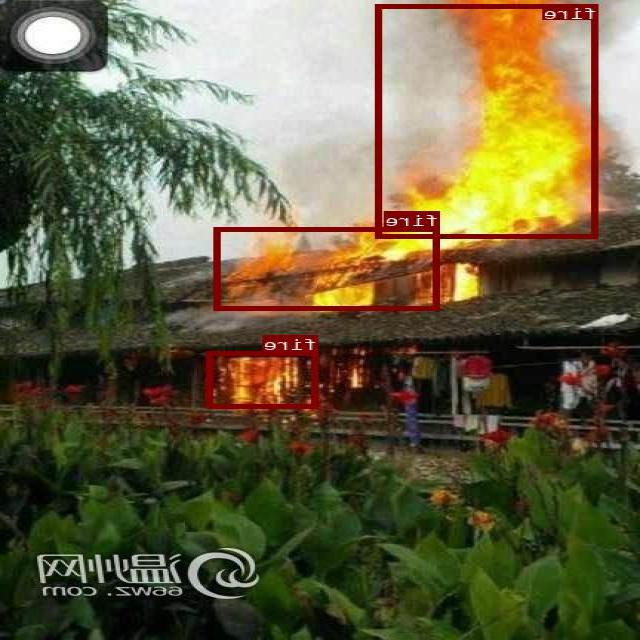fire: (376, 4, 600, 237), (215, 226, 441, 310), (208, 351, 318, 408)
